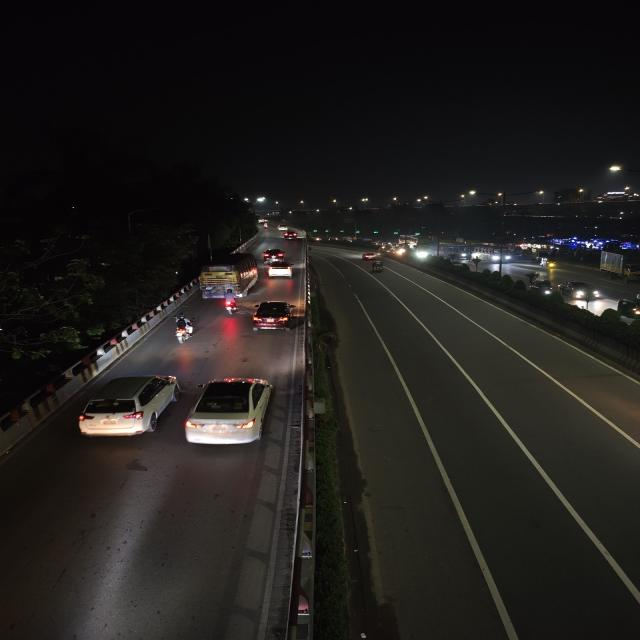bus: (199, 253, 260, 297), (441, 244, 472, 262), (483, 246, 514, 264)
car: (74, 370, 184, 442), (182, 374, 278, 454), (250, 300, 298, 334), (560, 280, 602, 302), (266, 260, 294, 280), (262, 248, 287, 262), (360, 251, 381, 261), (284, 231, 300, 241), (277, 222, 288, 230)
cng: (615, 296, 640, 324), (527, 278, 556, 298), (536, 255, 554, 269), (370, 261, 386, 273)
motorcycle: (170, 314, 199, 346), (220, 291, 241, 317)
truck: (599, 248, 640, 284)
